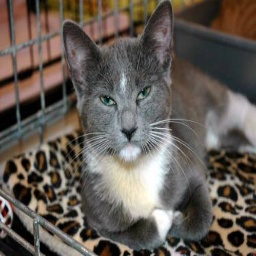cat: (62, 3, 256, 247)
